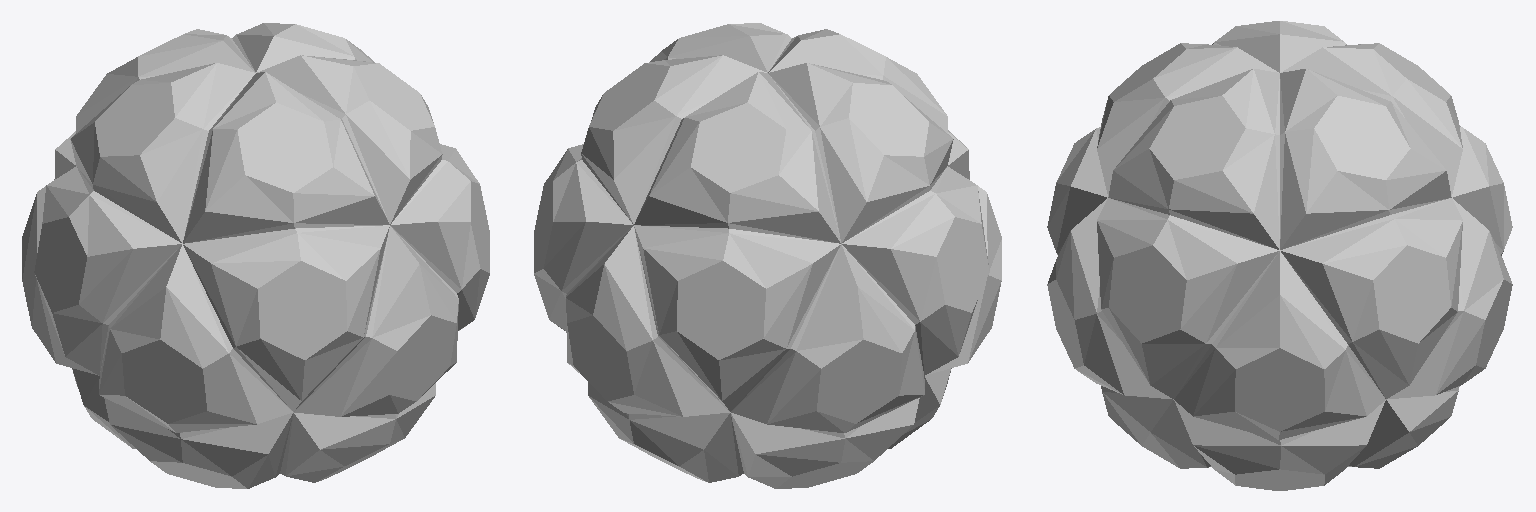
Rendered from epol_5.obj.
3 renders of one model, left to right at view 1: azimuth 30°, elevation 25°; view 2: azimuth 150°, elevation 25°; view 3: azimuth 270°, elevation 25°, orthographic.
Bounding box in the file's own units: 3.47 × 3.3 × 3.43.